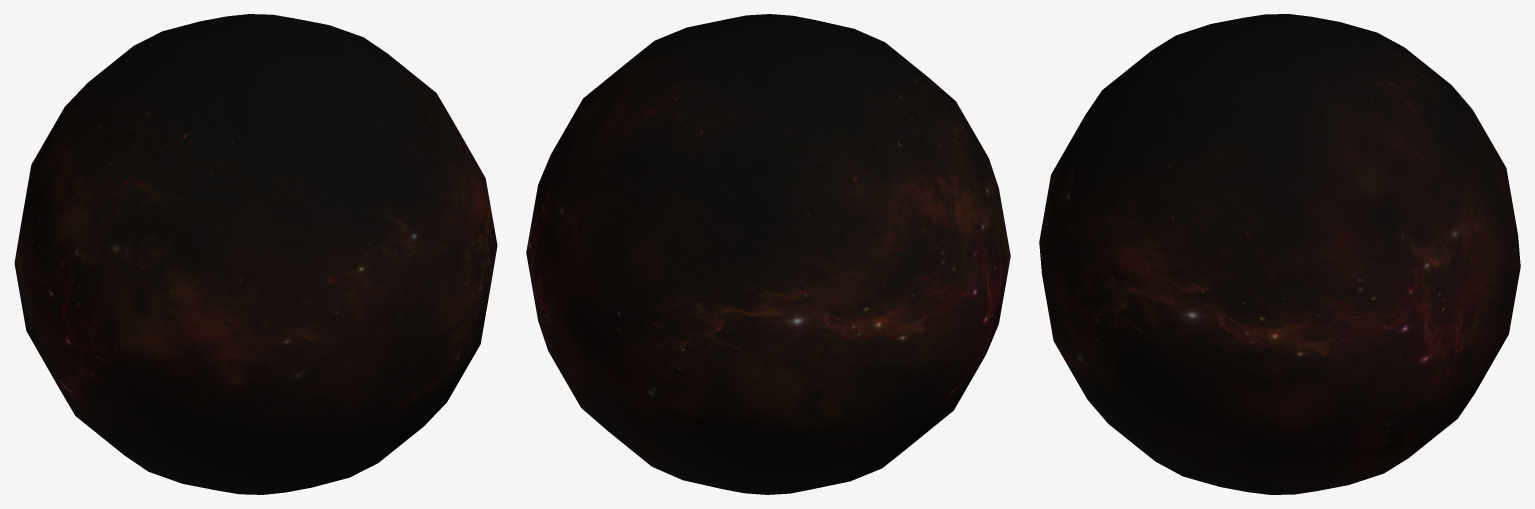
Rendered from ts_kfz001.FBX.
3 renders of one model, left to right at view 1: azimuth 30°, elevation 25°; view 2: azimuth 150°, elevation 25°; view 3: azimuth 270°, elevation 25°, orthographic.
Parts seen in each view (by area): view 1: ts_kfz_bjtk; view 2: ts_kfz_bjtk; view 3: ts_kfz_bjtk.
Boxes of the visible parts, x1,y1,x2,y2 form: ts_kfz_bjtk: [14, 14, 497, 494]; ts_kfz_bjtk: [526, 14, 1010, 494]; ts_kfz_bjtk: [1039, 14, 1520, 494].
Size of the model in its own units: 46.29 by 46.64 by 46.29.
